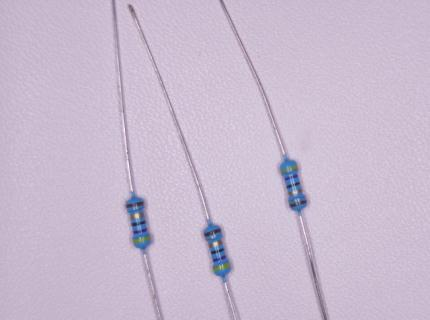Gold band: (208, 240, 223, 248), (288, 188, 303, 196), (130, 212, 144, 220)
Violet band: (284, 174, 299, 181), (213, 255, 227, 262), (133, 228, 148, 234)
Yellow band: (213, 262, 231, 272), (133, 236, 151, 244), (281, 165, 298, 173)
